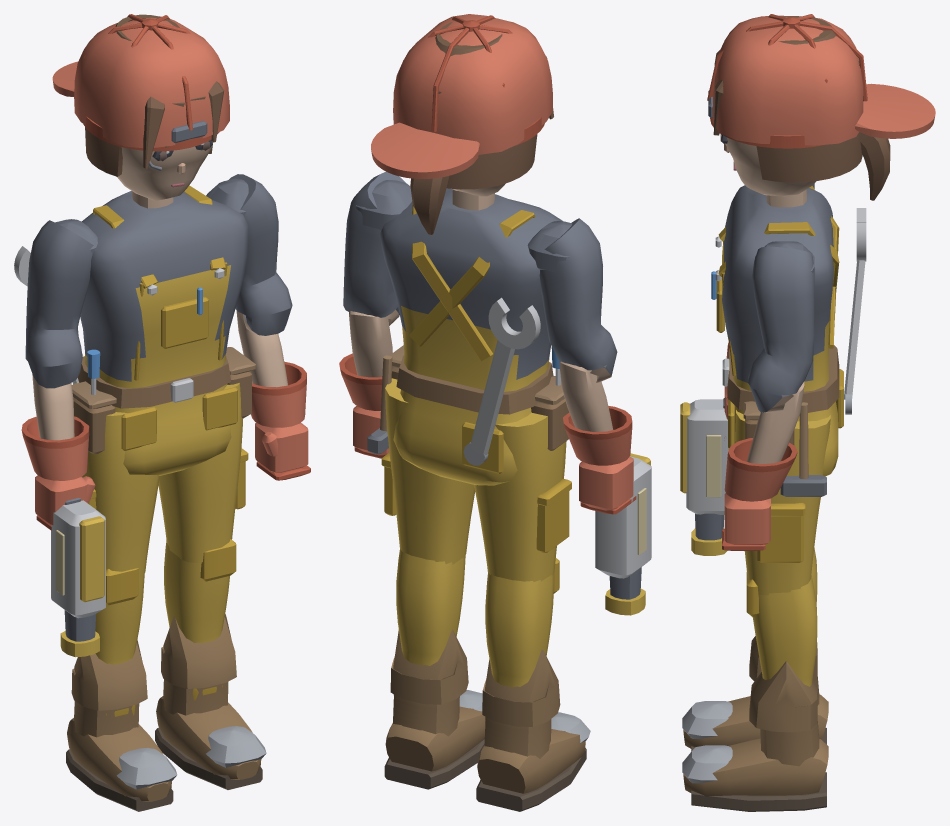
Rendered from jo_mecano.glb.
3 views of the same model, side by side, from view 1: azimuth 30°, elevation 25°; view 2: azimuth 150°, elevation 25°; view 3: azimuth 270°, elevation 25° (orthographic). The views are drawn at different scales.
Visible parts, largest first — view 1: torso, coiffe, arm_r, arm_l, jambe_l, jambe_r, leg_l, gun, leg_r, shin_l, head, shin_r (+2 smaller); view 2: torso, coiffe, arm_r, jambe_r, jambe_l, arm_l, leg_r, leg_l, shin_r, shin_l, gun, dos (+3 smaller); view 3: coiffe, torso, arm_l, jambe_l, leg_l, hair, gun, shin_l, jambe_r, head, dos, gun_glow.
Part boxes in pixels (box(x1,y1,x2,y2)): torso: box(72, 185, 255, 475); coiffe: box(52, 14, 229, 151); arm_r: box(21, 219, 97, 530); arm_l: box(206, 174, 310, 480); jambe_l: box(155, 614, 266, 789); jambe_r: box(66, 639, 177, 811); leg_l: box(158, 383, 248, 562); gun: box(51, 498, 105, 657); leg_r: box(82, 412, 159, 577); shin_l: box(164, 539, 236, 700); head: box(117, 139, 213, 208); shin_r: box(95, 568, 144, 716); torso: box(367, 188, 569, 485); coiffe: box(371, 14, 552, 178); arm_r: box(527, 218, 636, 514); jambe_r: box(476, 649, 590, 811); jambe_l: box(384, 629, 485, 789); arm_l: box(339, 171, 412, 458); leg_r: box(474, 412, 571, 581); leg_l: box(381, 378, 475, 564); shin_r: box(485, 558, 559, 687); shin_l: box(396, 549, 465, 665); gun: box(595, 453, 651, 615); dos: box(462, 297, 540, 473); coiffe: box(707, 14, 935, 148); torso: box(711, 185, 839, 496); arm_l: box(722, 241, 814, 550); jambe_l: box(682, 661, 828, 811); leg_l: box(735, 410, 830, 596); hair: box(713, 16, 890, 200); gun: box(680, 398, 728, 555); shin_l: box(746, 572, 817, 731); jambe_r: box(682, 636, 828, 751); head: box(720, 134, 815, 207); dos: box(836, 208, 866, 428); gun_glow: box(706, 435, 721, 497).
Size of the model in its own units: 0.478 by 1.22 by 0.374.
